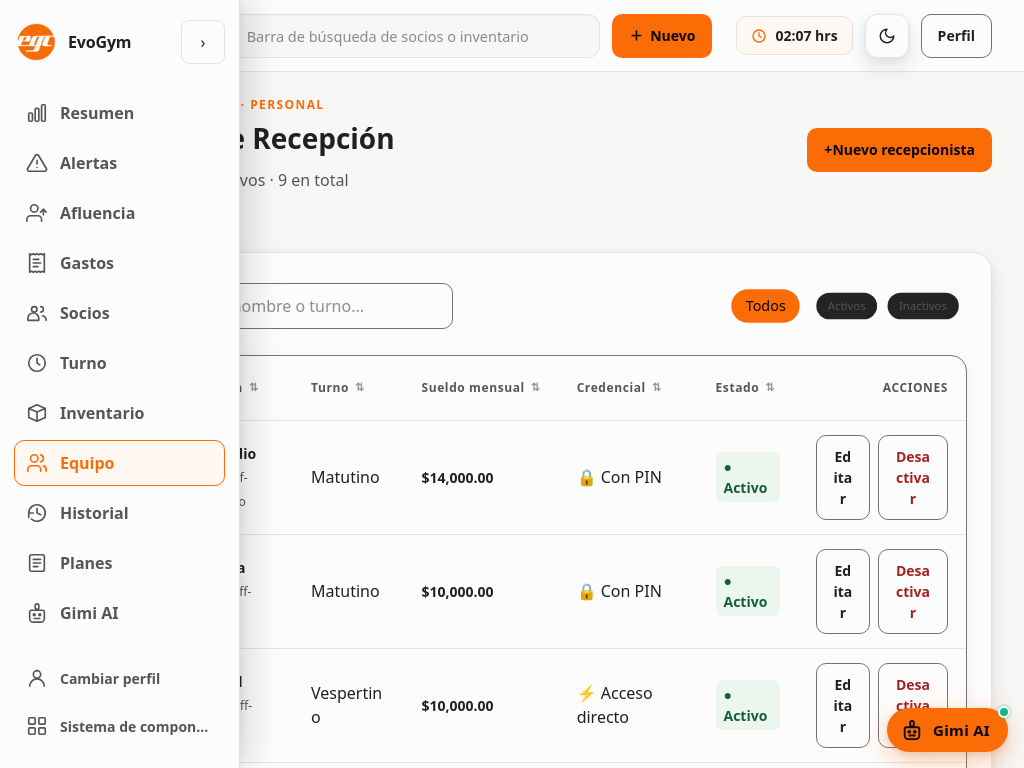
StaffManagement (T02 — Admin Staff Management) › filters staff by search query and status filter buttons
Search for Sheila
Type "Sheila" into the field named "Buscar recepcionista" at (293, 306), box [133,283,453,329]
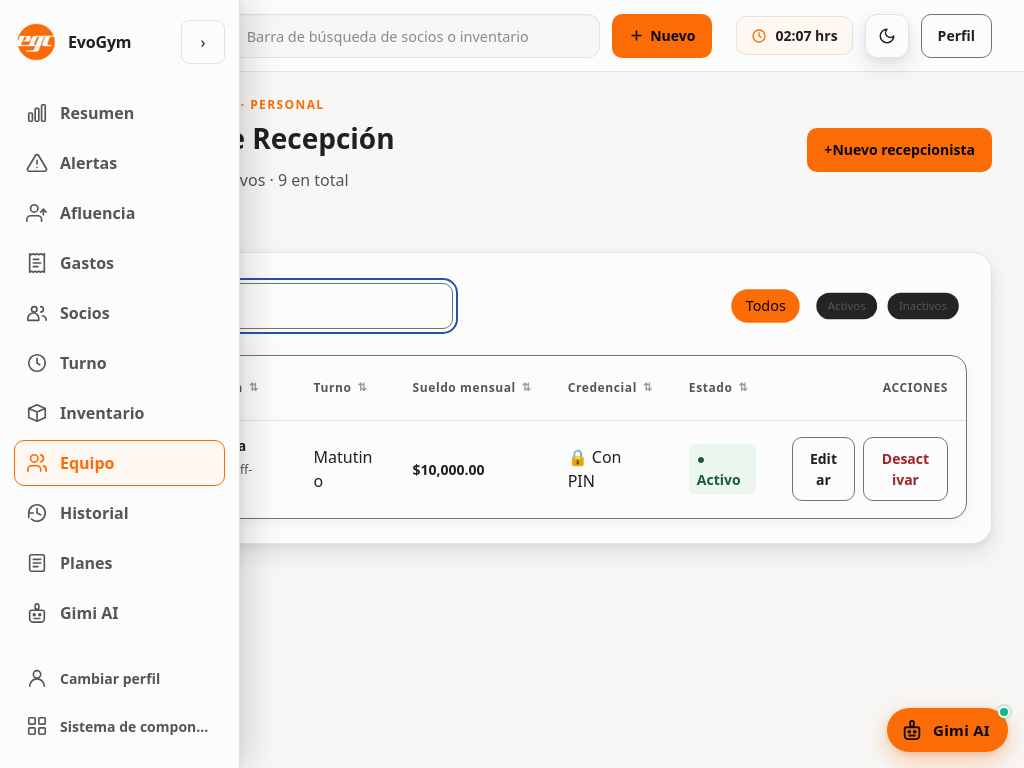
Expected: the text "Sheila" is shown, [204,436,246,455]
Expected: the text "Emigdio" is gone
Clear search
Clear the field named "Buscar recepcionista" at (293, 306), box [133,283,453,329]
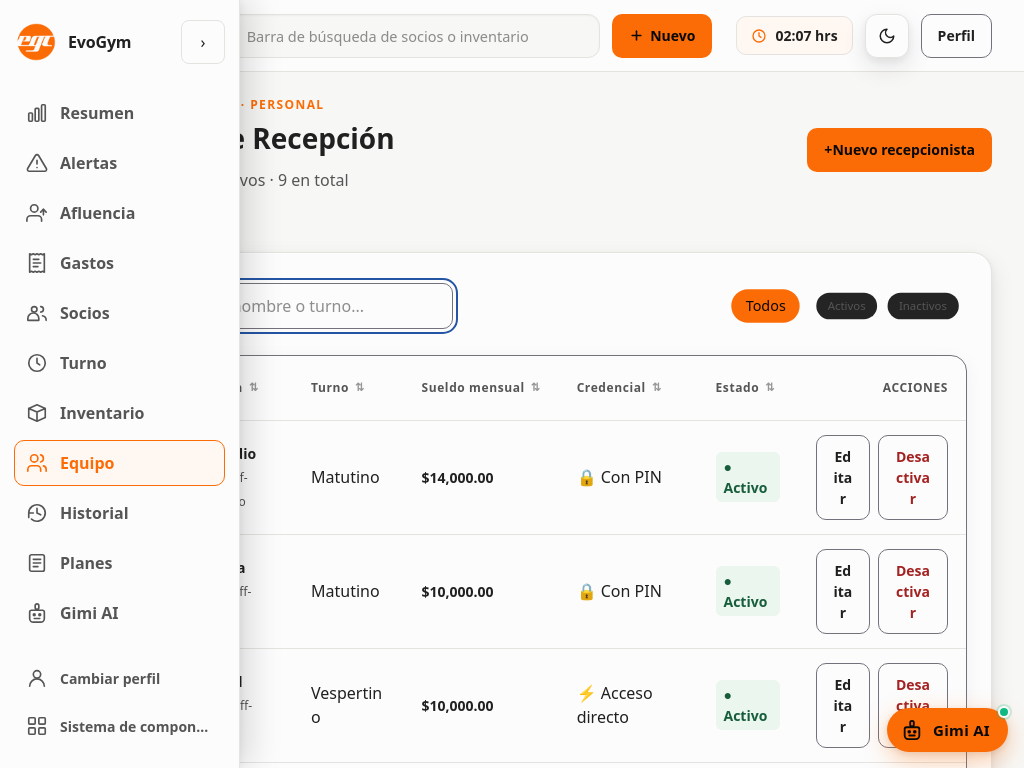
Expected: the text "Emigdio" is shown, [200,444,256,463]
Inactive filter with JellyRadio (initially all are active)
Click the radio button labelled "Inactivos" at (923, 306), box [888,285,959,326]
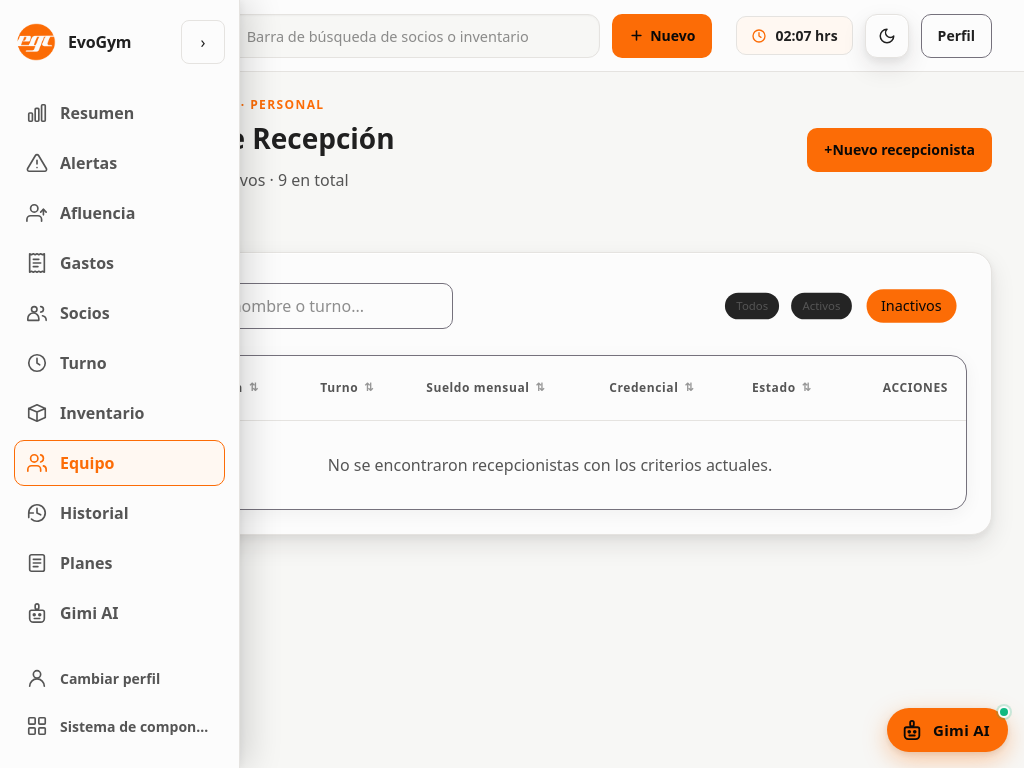
Expected: the text "No se encontraron recepcionistas con los criterios actuales." is shown, [134,421,966,509]
Click the radio button labelled "Todos" at (752, 306), box [725,285,780,326]
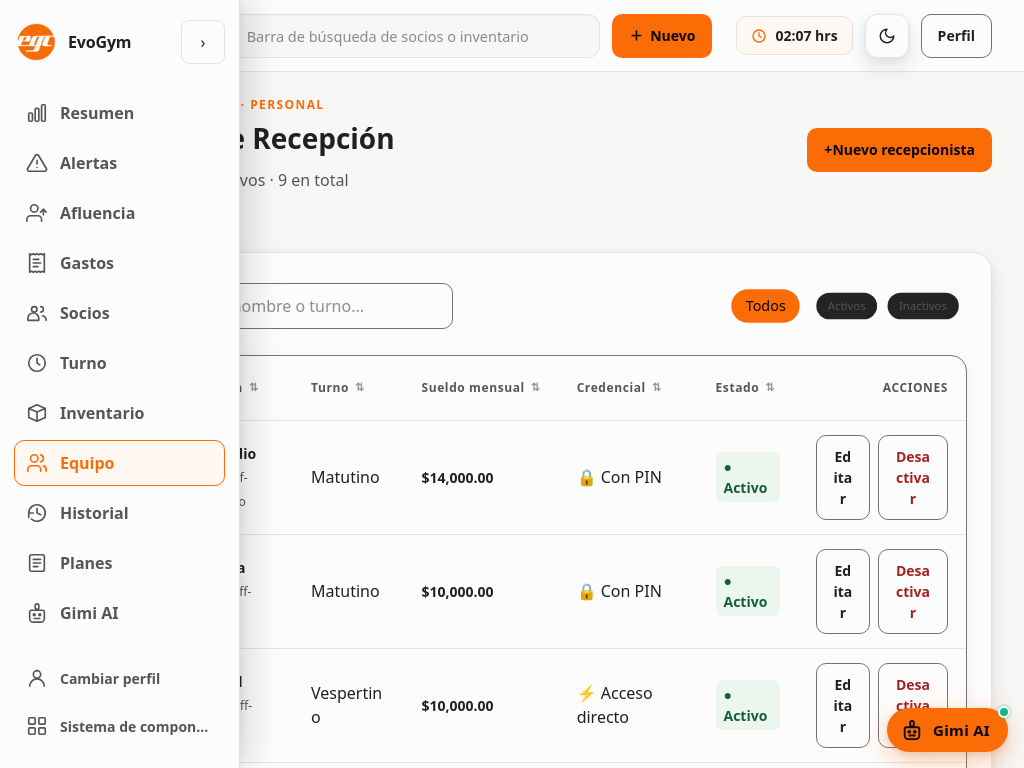
Expected: the text "Emigdio" is shown, [200,444,256,463]
